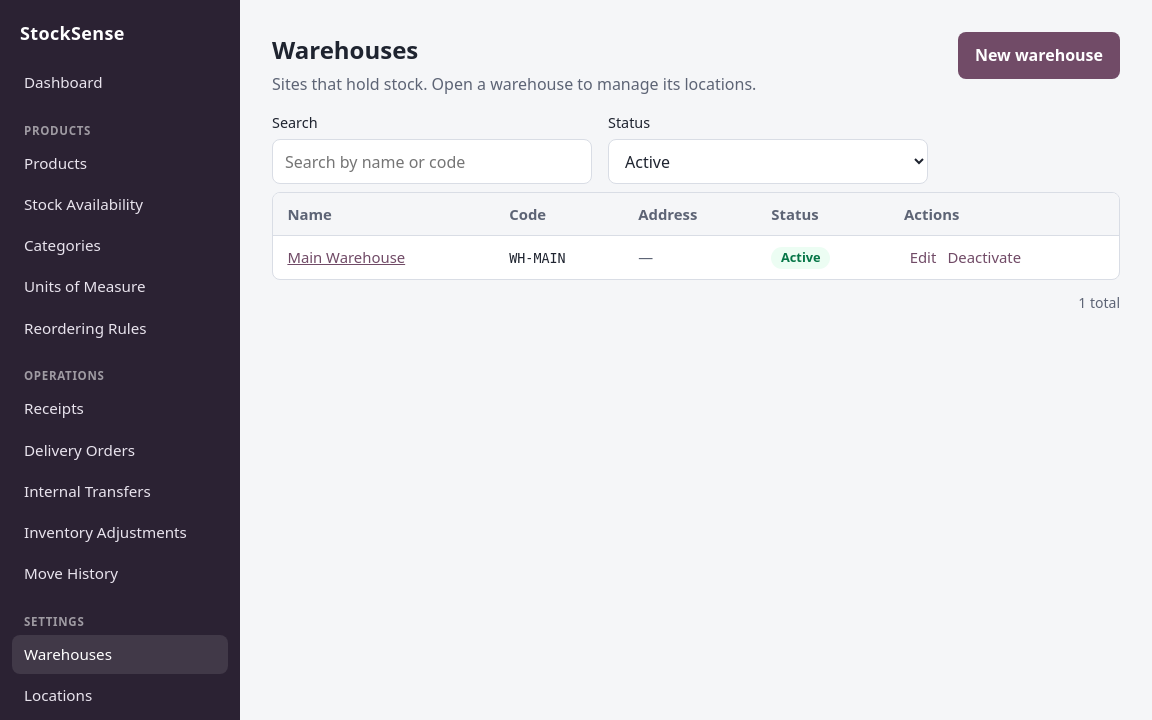
Test: warehouses and locations › validates the warehouse code
Step 1. Click the button "New warehouse" → (1039, 55), box 958,32 -> 1120,79
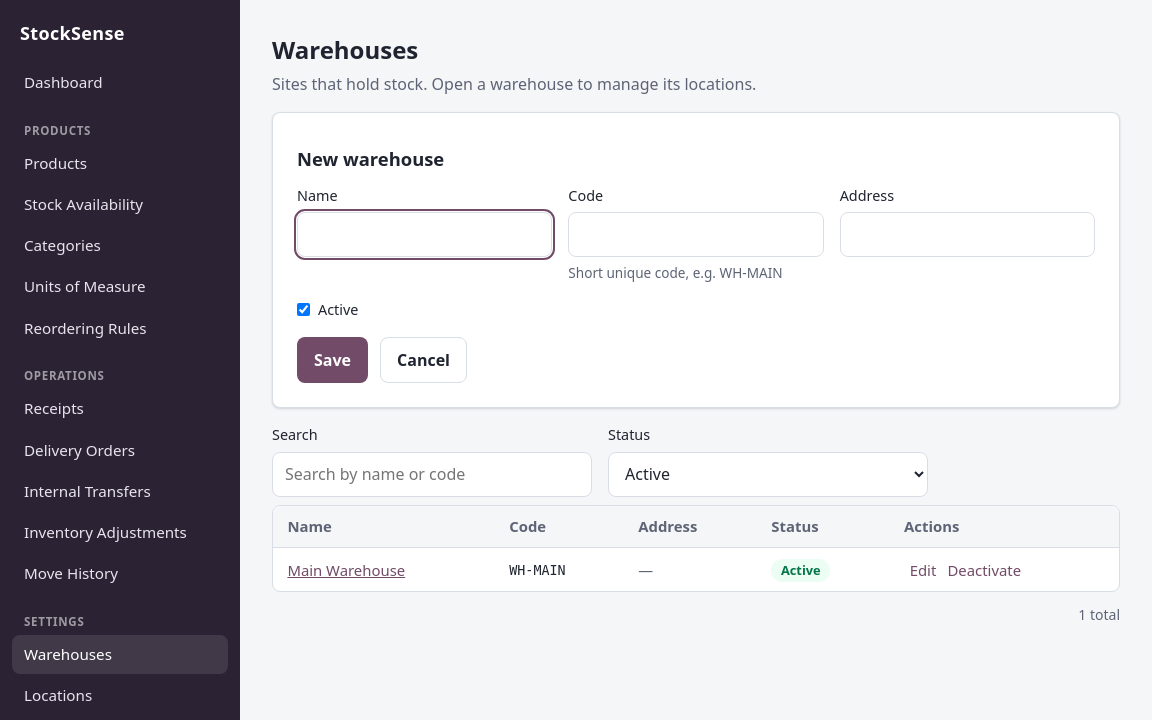
Step 2. Type "Overflow" into the field labelled "Name" → (425, 234), box 297,212 -> 552,257
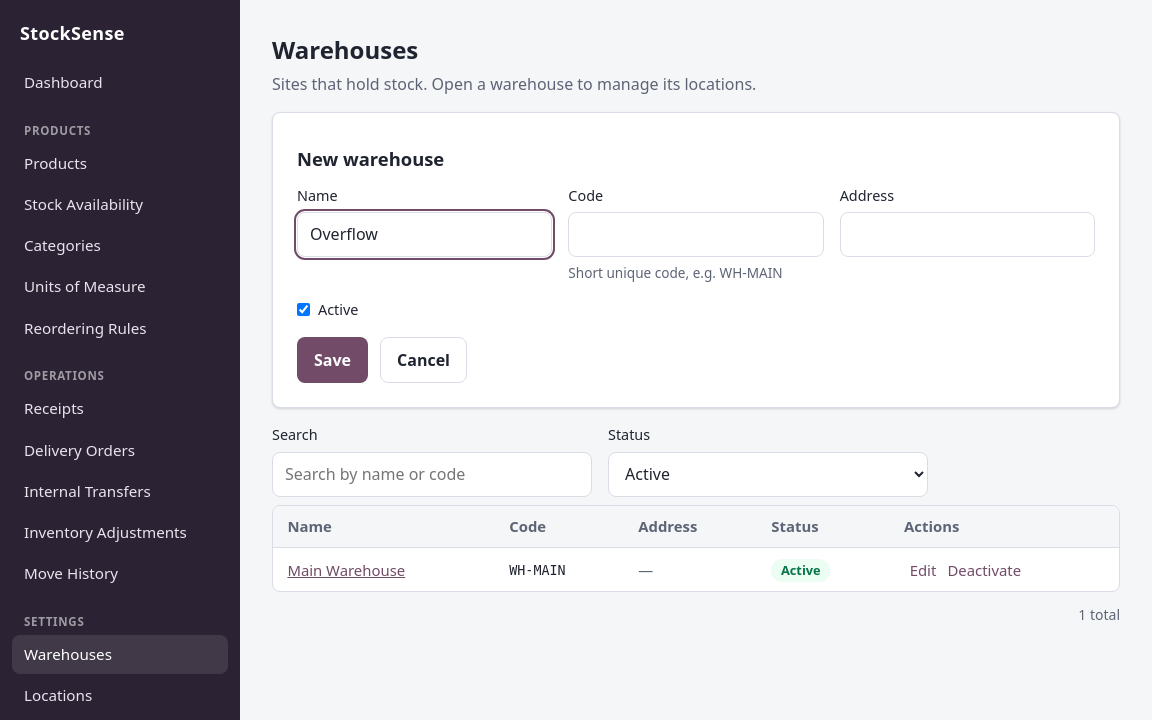
Step 3. Type "has space" into the field labelled "Code" → (696, 234), box 568,212 -> 824,257
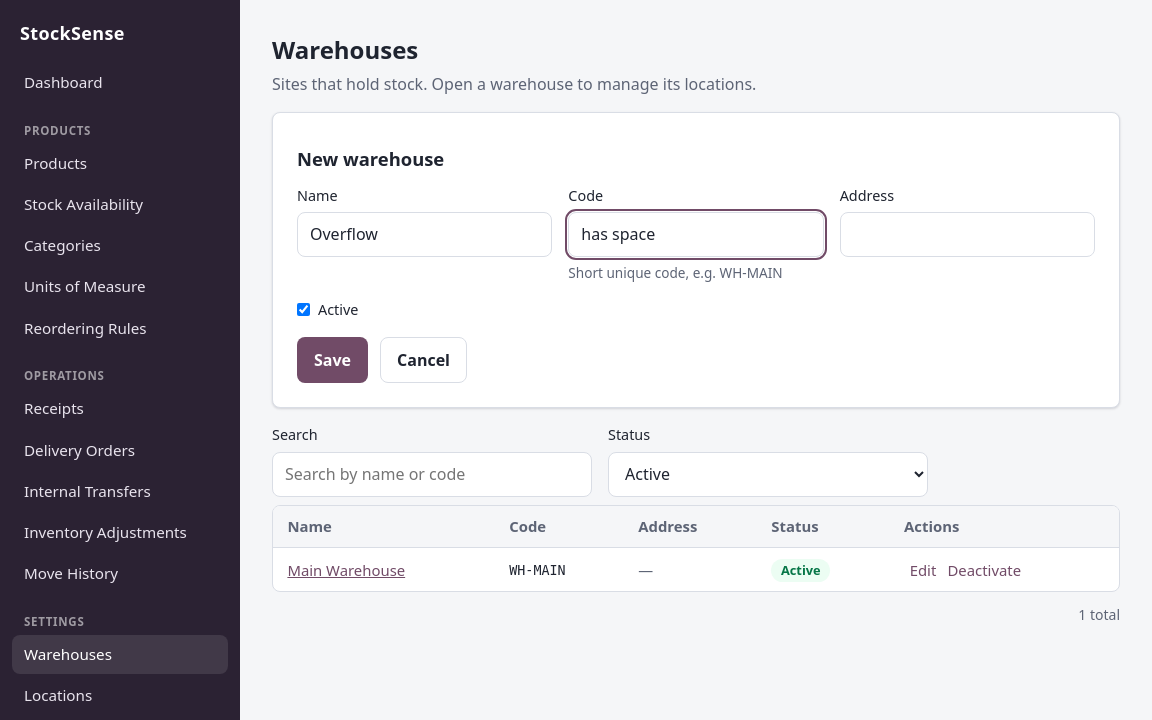
Step 4. Click the button "Save" → (332, 360), box 297,337 -> 368,383
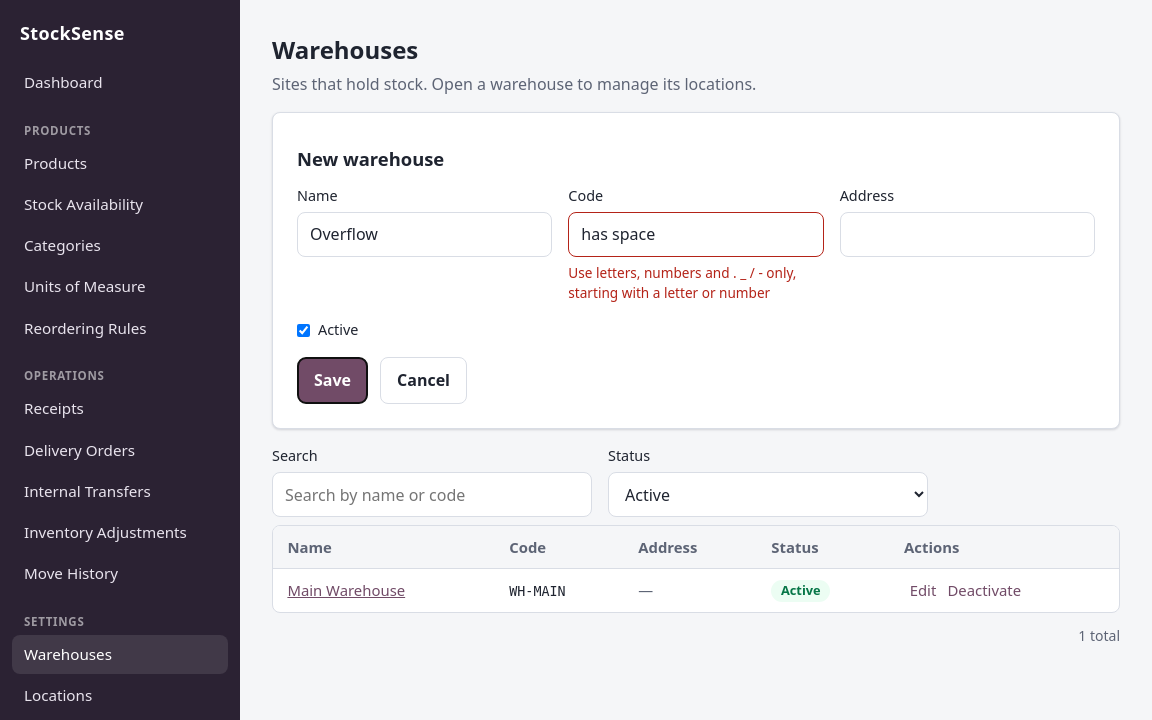
Result: the text "letters, numbers" is shown at 568,263 -> 796,302
